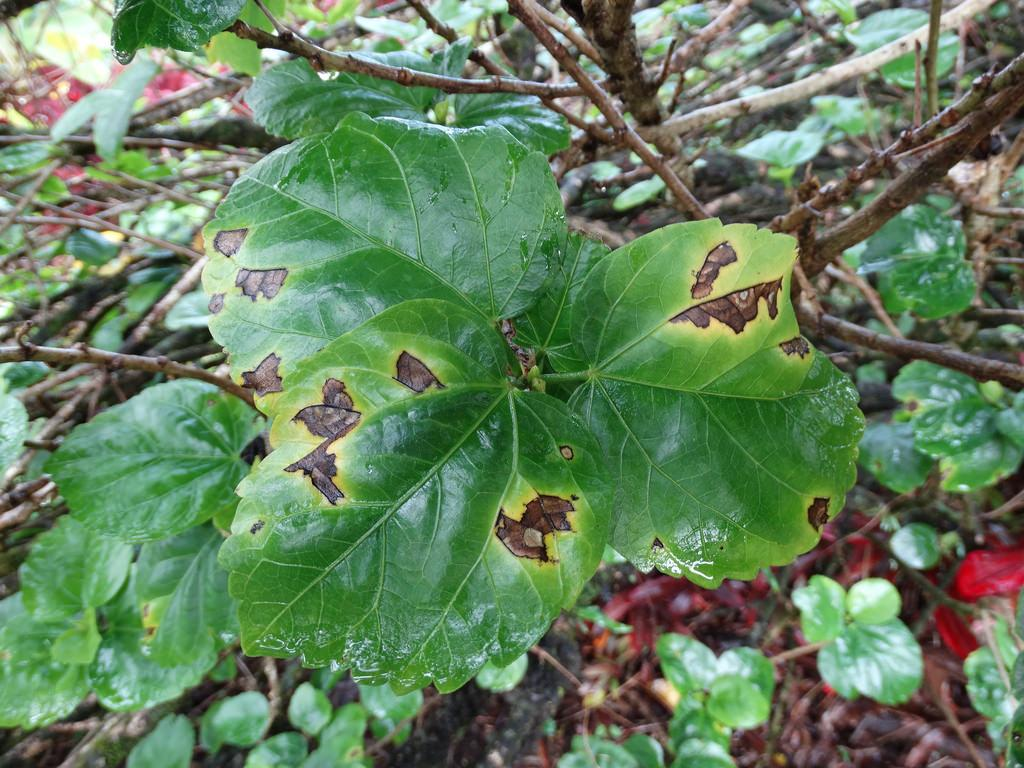Tomato Septoria leaf spot: (216, 315, 613, 692), (571, 215, 876, 576)
